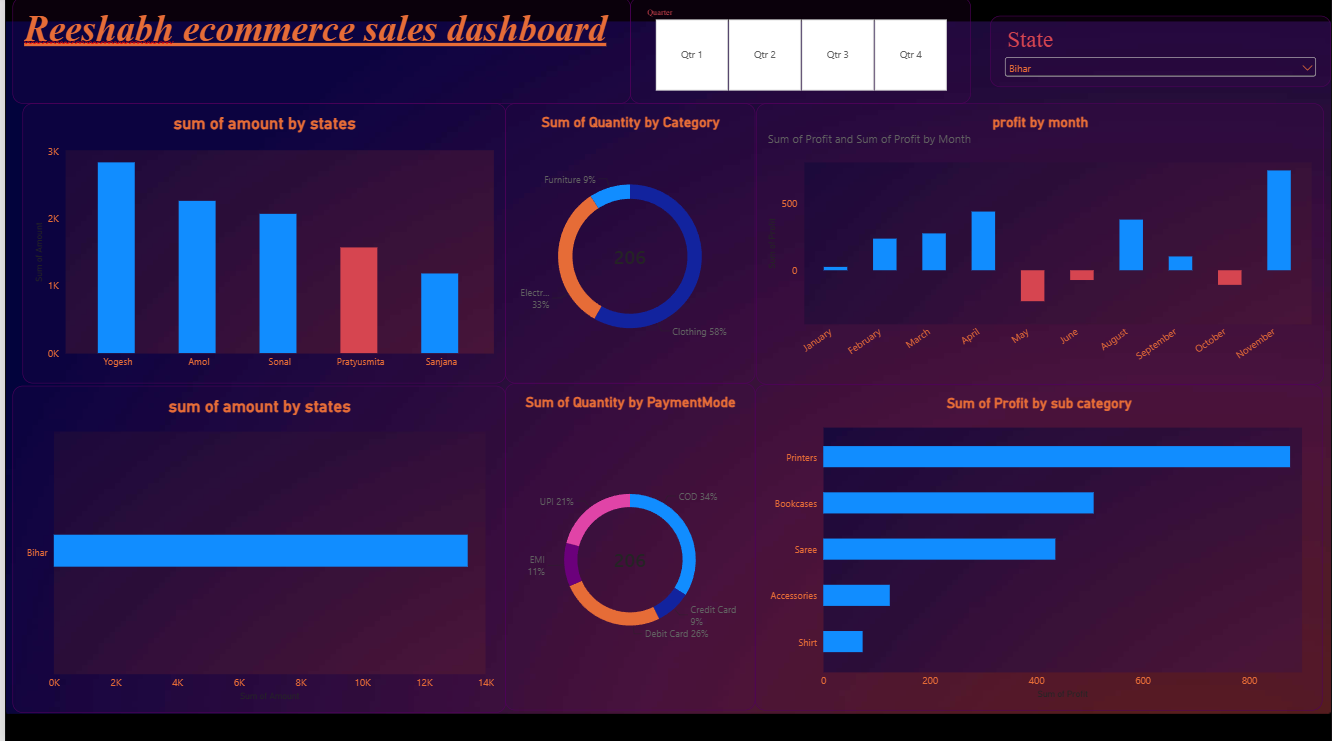

Layout of this report page (visuals, bound fields, positions):
{"tool":"powerbi","page":{"name":"Page 1","canvas":[1920,1080],"ordinal":0},"visuals":[{"type":"textbox","box":[10.3,0,895.4,154.4],"z":0},{"type":"columnChart","title":"profit by month","fields":{"Category":["Orders.Order Date.Variation.Date Hierarchy.Month"],"Y":["Sum(Details.Profit)"]},"box":[1086.8,154.4,821.3,407.5],"z":1000},{"type":"barChart","title":"Sum of Profit by sub category","fields":{"Category":["Details.Sub-Category"],"Y":["Sum(Details.Profit)"]},"box":[1085.8,561,821.6,472.3],"z":2000},{"type":"donutChart","fields":{"Category":["Details.Category"],"Y":["Sum(Details.Quantity)"]},"box":[724.5,154.4,362.3,405.5],"z":3000},{"type":"donutChart","fields":{"Series":["Details.PaymentMode"],"Y":["Sum(Details.Quantity)"]},"box":[724.5,559.9,362.3,473.4],"z":4000},{"type":"barChart","title":"sum of  amount by states","fields":{"Category":["Orders.State"],"Y":["Sum(Details.Amount)"]},"box":[10.3,561.9,714.2,473.4],"z":5000},{"type":"columnChart","title":"sum of  amount by states","fields":{"Category":["Orders.CustomerName"],"Y":["Sum(Details.Amount)"]},"box":[24.7,154.4,699.8,405.5],"z":6000},{"type":"slicer","fields":{"Values":["Orders.Order Date.Variation.Date Hierarchy.Quarter"]},"box":[905.7,0,494,154.4],"z":6001},{"type":"slicer","fields":{"Values":["Orders.State"]},"box":[1426.4,26.8,494,102.9],"z":6002}]}

Visuals, with their boxes in screenshot pixels (x1, y1, x2, y2), scaled from the page's 1920x1080 canvas onto the 1332x741 screenshot:
textbox: (7,0,628,106)
"profit by month" columnChart: (754,106,1324,386)
"Sum of Profit by sub category" barChart: (753,385,1323,709)
donutChart - Details.Category x Sum(Details.Quantity): (503,106,754,384)
donutChart - Details.PaymentMode x Sum(Details.Quantity): (503,384,754,709)
"sum of  amount by states" barChart: (7,386,503,710)
"sum of  amount by states" columnChart: (17,106,503,384)
slicer - Orders.Order Date.Variation.Date Hierarchy.Quarter: (628,0,971,106)
slicer - Orders.State: (990,18,1331,89)
